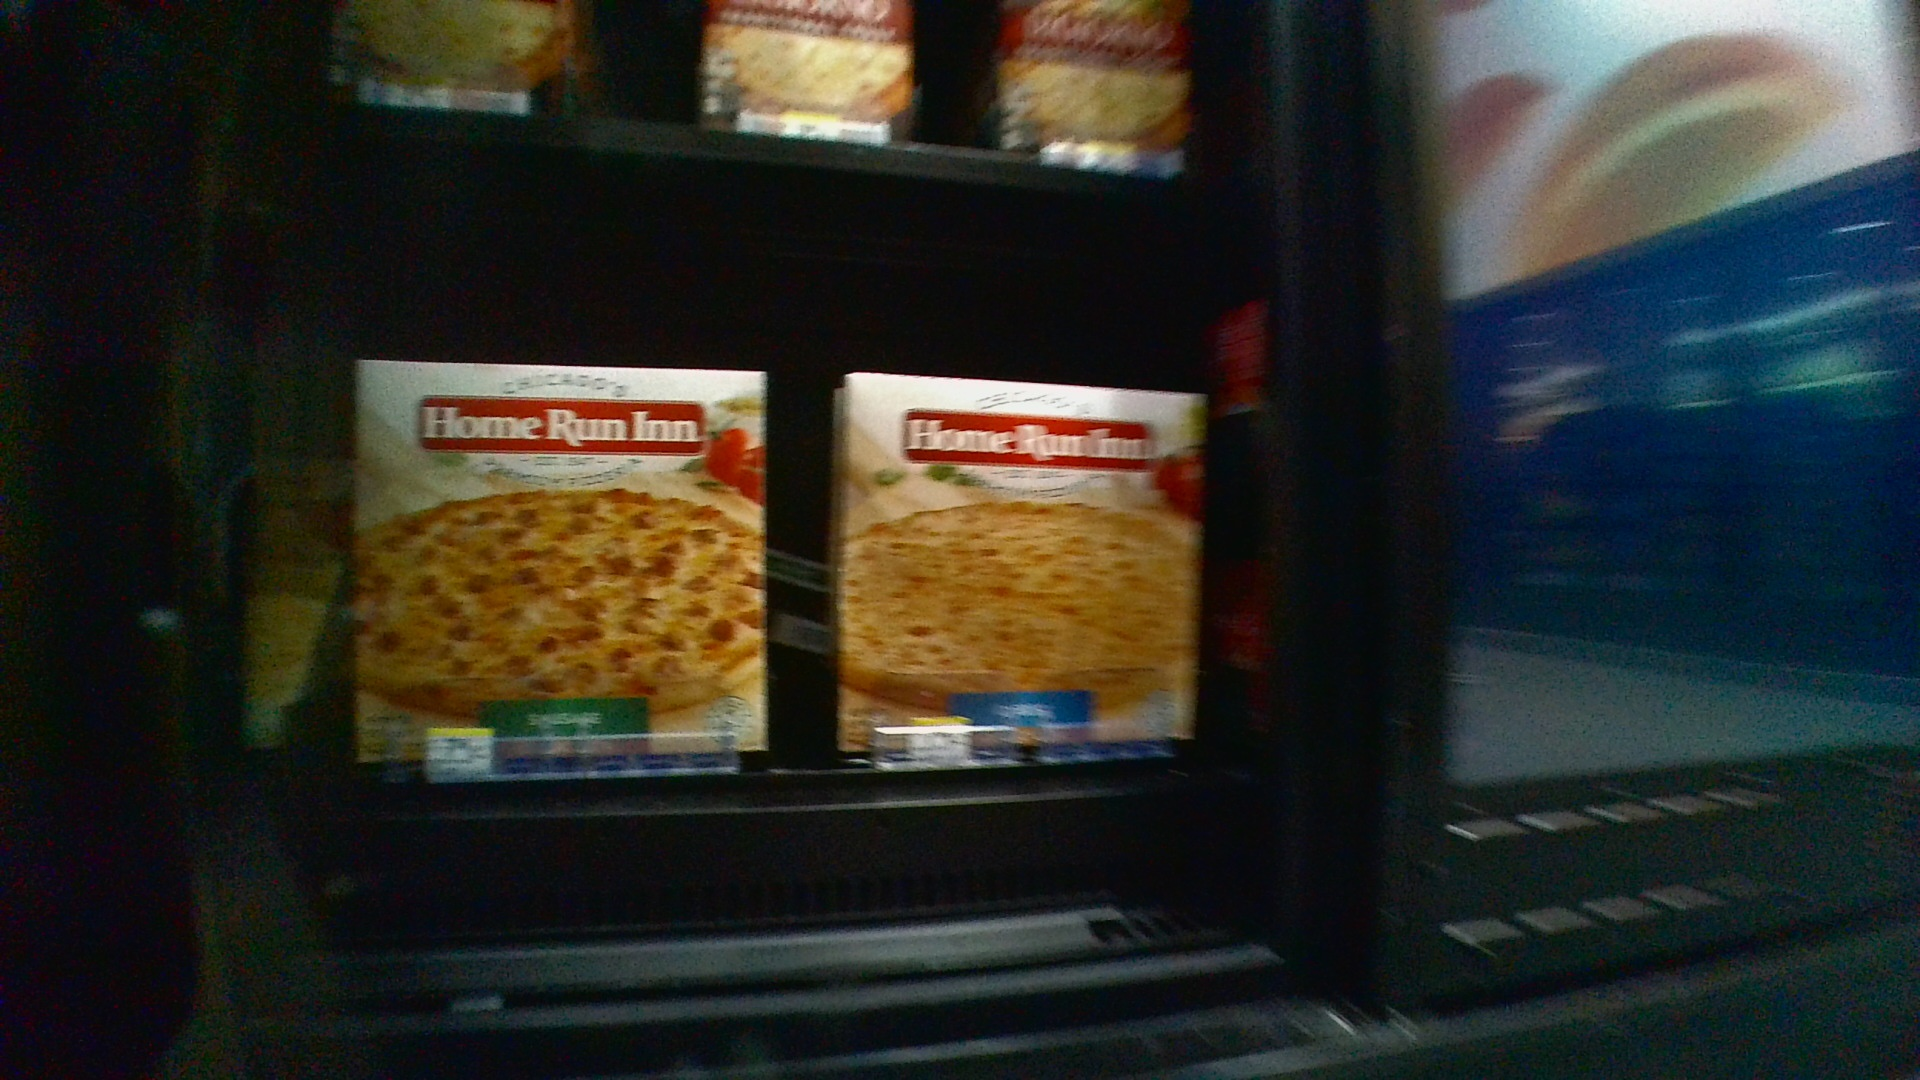shelf: (258, 149, 1267, 952)
